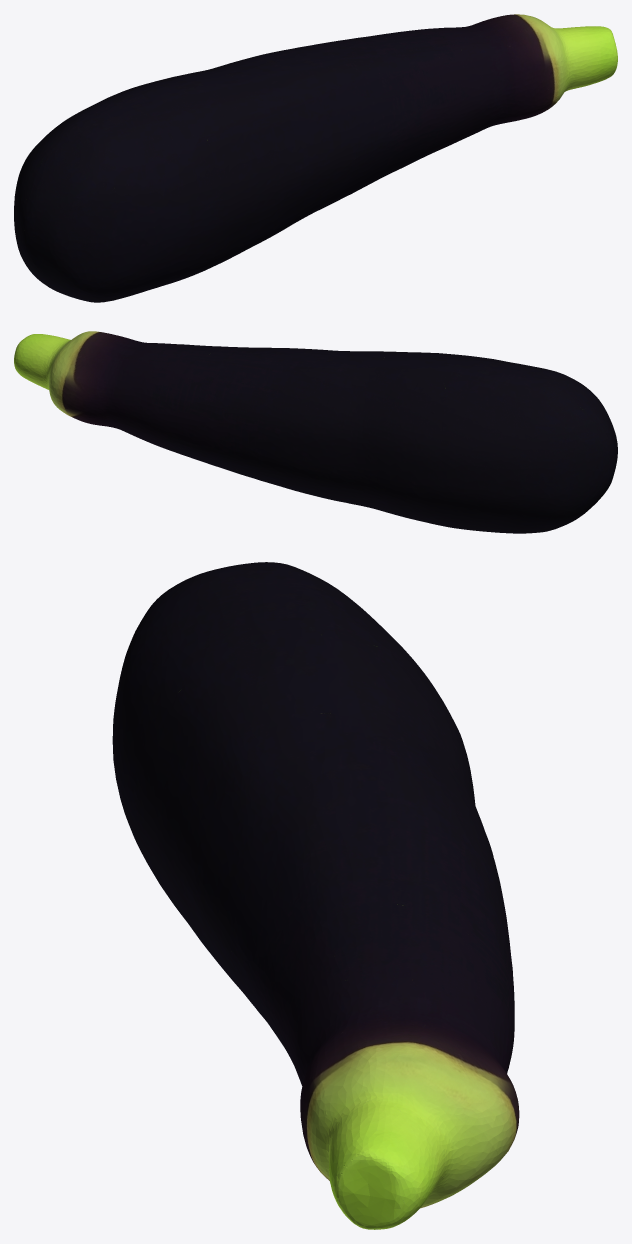
3 renders of one model, top to bottom at view 1: azimuth 30°, elevation 25°; view 2: azimuth 150°, elevation 25°; view 3: azimuth 270°, elevation 25°, orthographic. The views are drawn at different scales.
Parts seen in each view (by area): view 1: GLTF; view 2: GLTF; view 3: GLTF.
Part boxes in pixels (left/top/right/bottom): GLTF: left=14, top=14, right=617, bottom=302; GLTF: left=14, top=331, right=617, bottom=533; GLTF: left=112, top=562, right=519, bottom=1229.
Bounding box in the file's own units: 0.08 × 0.0218 × 0.0254.
Materials: 1 (1 with a texture image).
